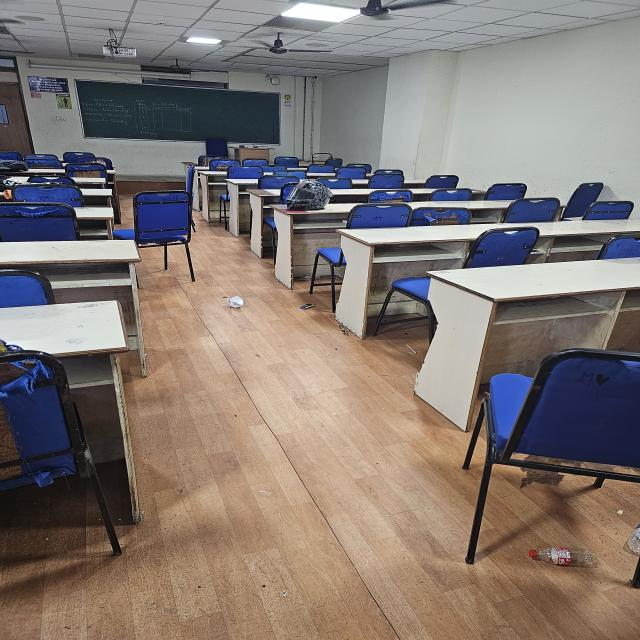helmet: (285, 181, 333, 210)
